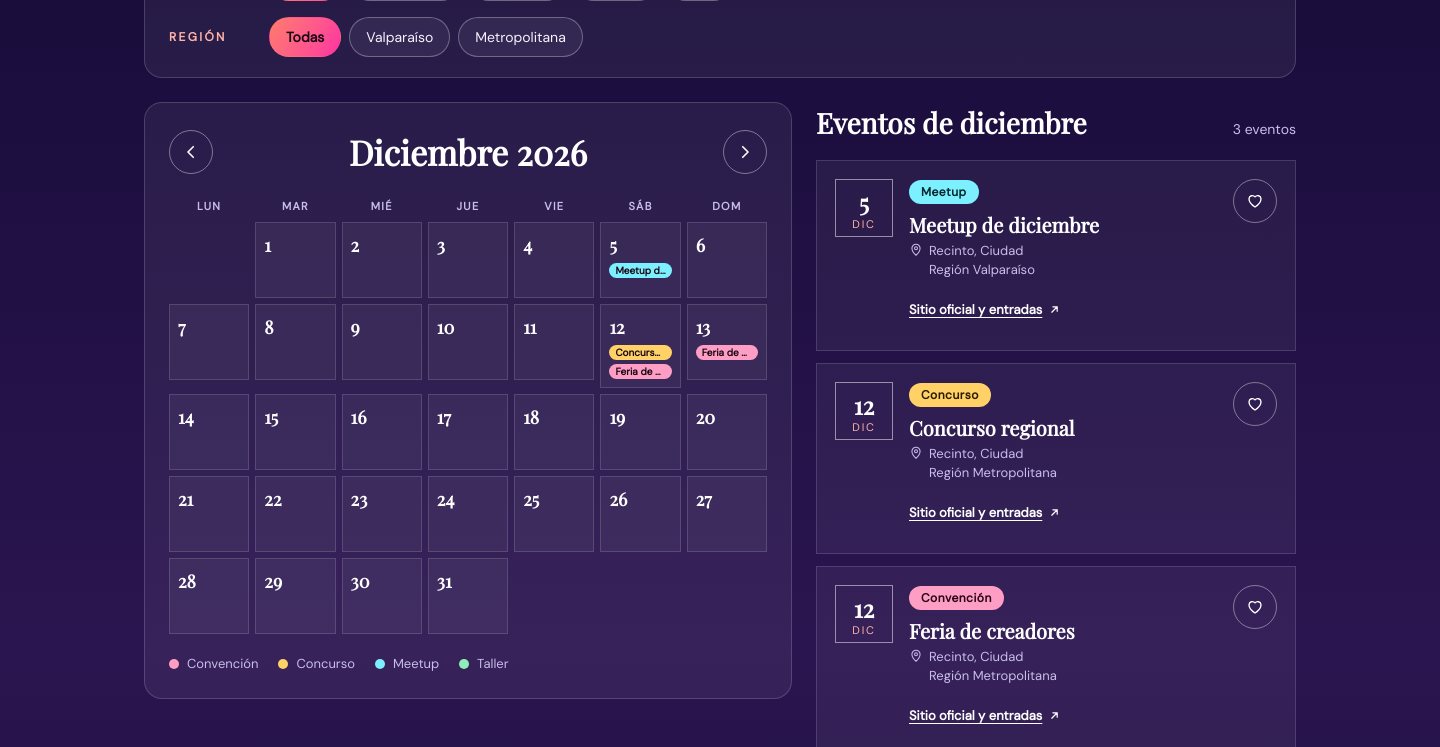
Calendario › al elegir un día muestra solo sus eventos, incluidos los de varios días
(page scrolled)
Click the button with aria-label "domingo 13 de diciembre, 1 evento" at (727, 342), box [687, 304, 767, 380]
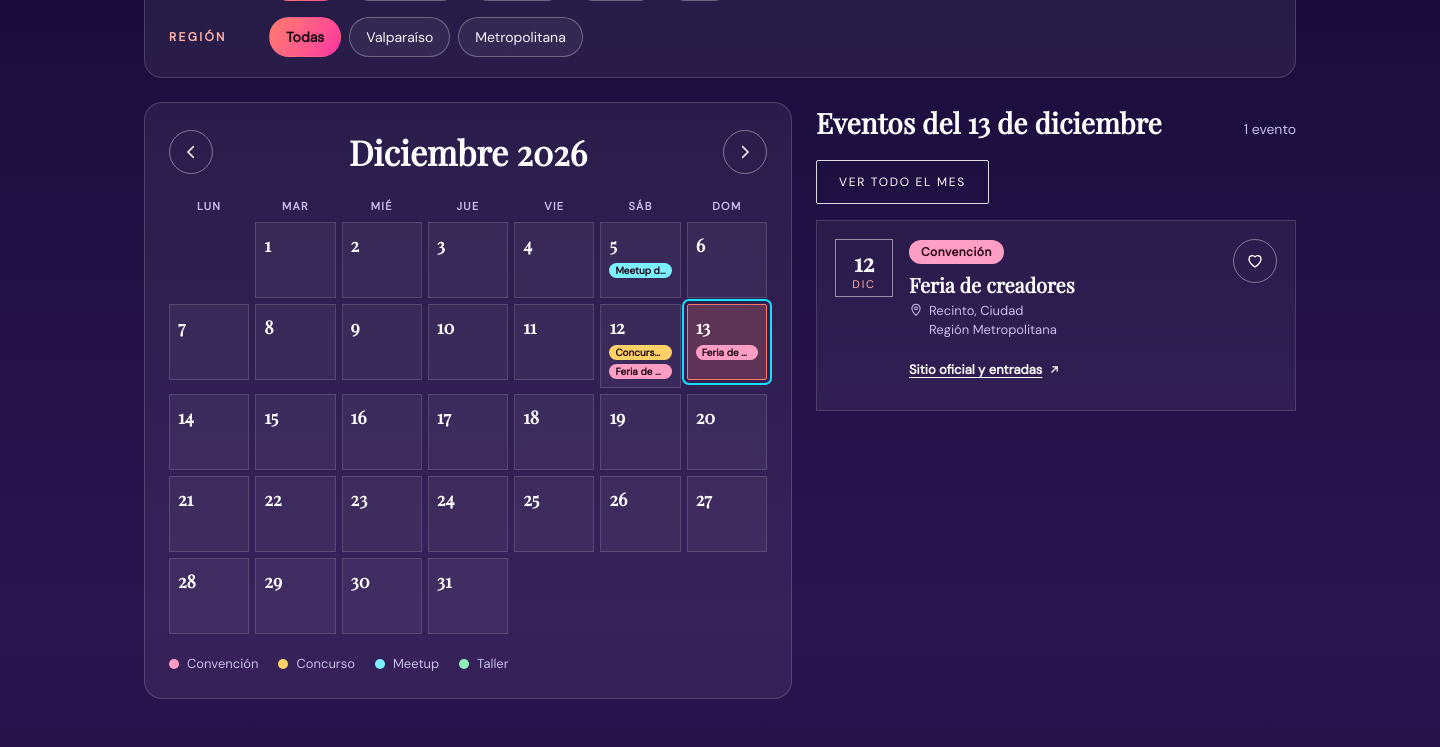
Expected: the link "Feria de creadores" is shown, [909, 271, 1075, 298]
Click the button "Ver todo el mes" at (902, 182), box [816, 160, 989, 204]
(page scrolled)
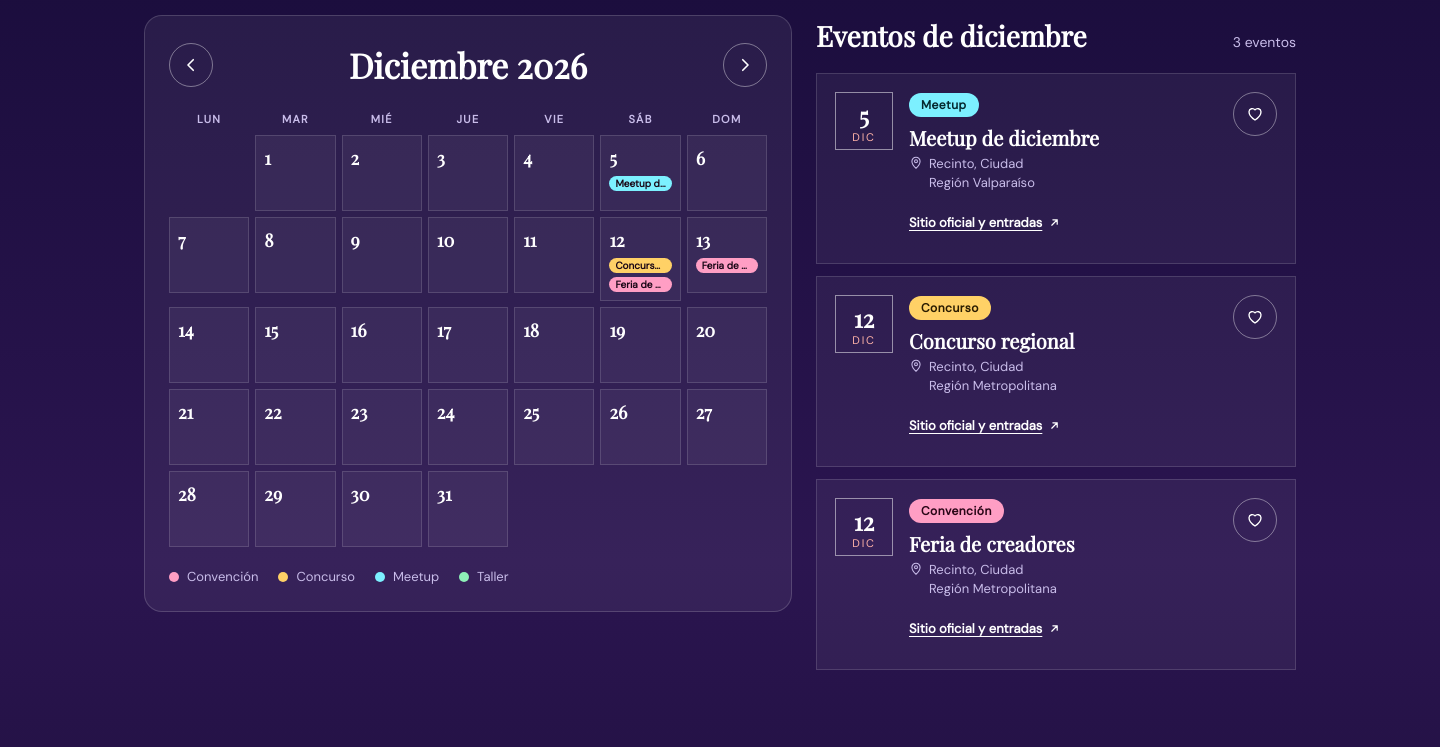
Result: the element "Eventos de diciembre" is shown at [816, 15, 1296, 670]
